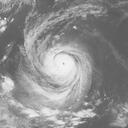cyclone: (33, 42, 94, 102)
